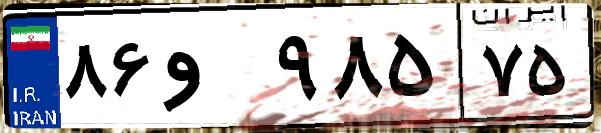5: (385, 28, 445, 110), (525, 38, 570, 115)
6: (110, 28, 158, 98)
7: (475, 38, 525, 113)
8: (330, 28, 385, 110), (57, 26, 110, 100)
9: (270, 28, 330, 110)
و: (158, 20, 270, 120)
